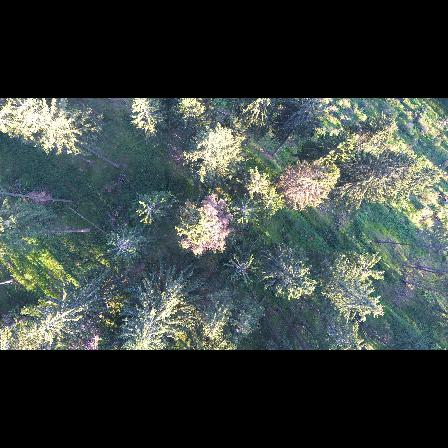Sick: (223, 254, 260, 293), (105, 231, 140, 263), (133, 196, 170, 224), (231, 196, 264, 225)
